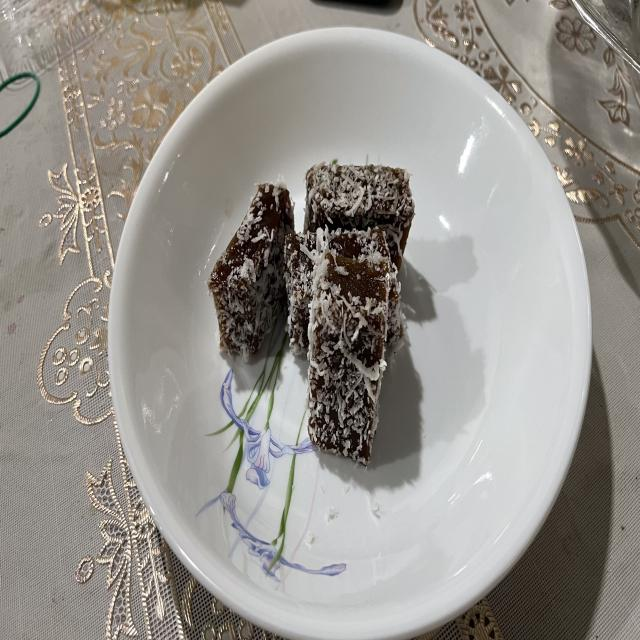kaswi: (307, 250, 391, 470), (208, 184, 294, 362), (285, 229, 390, 356), (304, 162, 414, 269), (386, 262, 405, 347)
